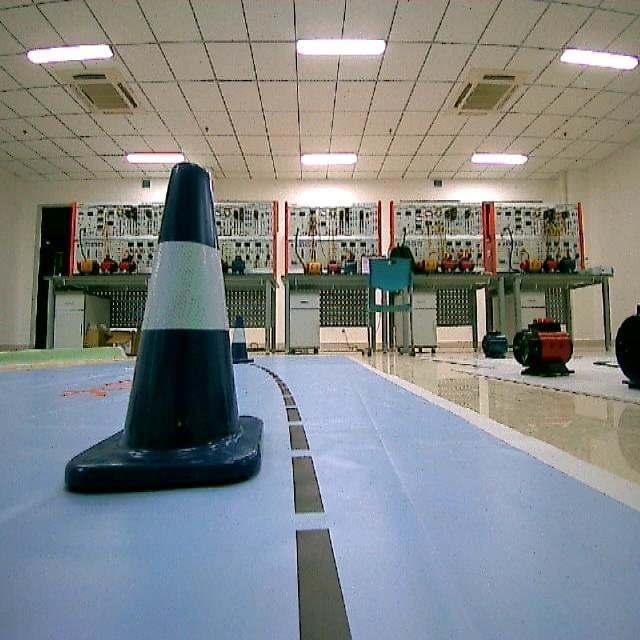obstacle: (61, 161, 270, 504)
